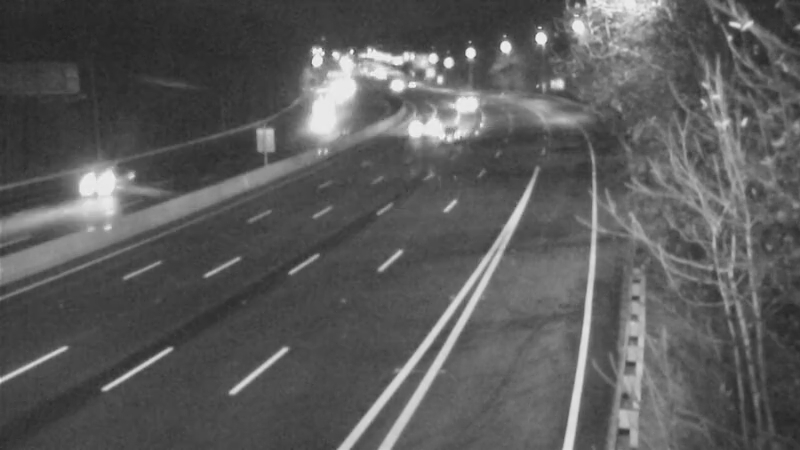vehicle: (58, 149, 138, 229), (367, 60, 417, 110), (432, 79, 482, 129), (395, 98, 445, 148), (423, 112, 473, 162), (292, 93, 342, 143)
